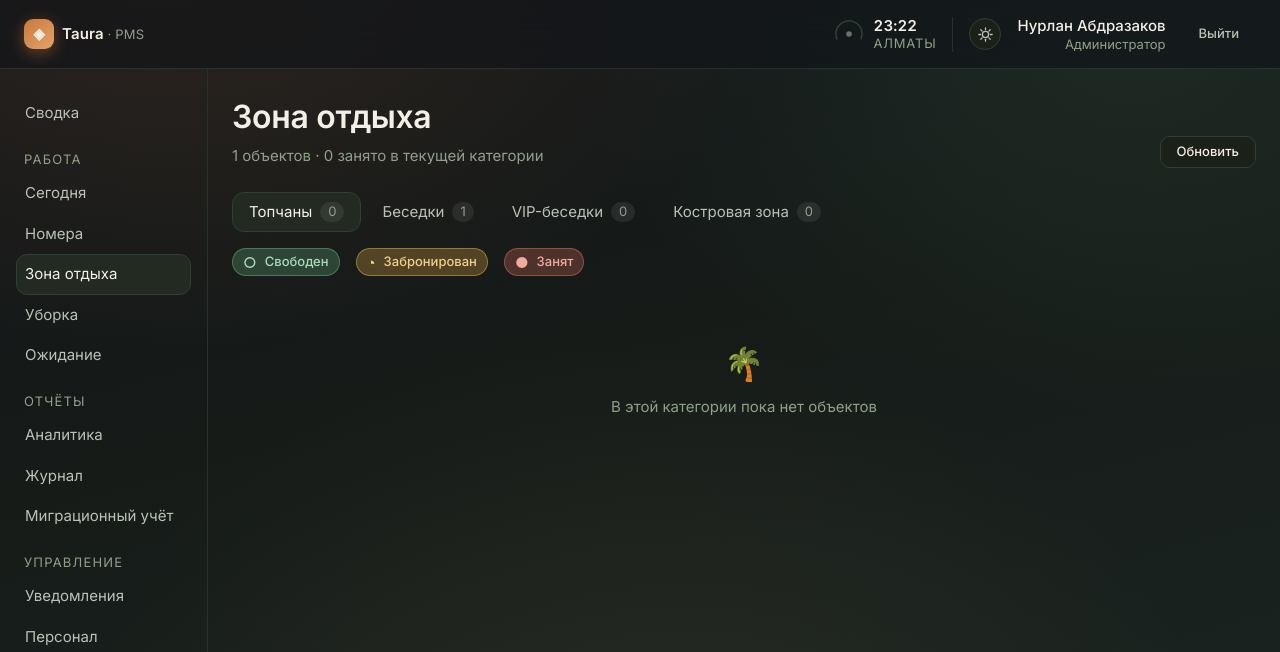
§1 clicking a card opens the detail view › opens a detail view for a restaurant unit too
The width and height of the screenshot is (1280, 652).
Click the button "Беседки 1": (428, 212) 366,192 -> 491,232
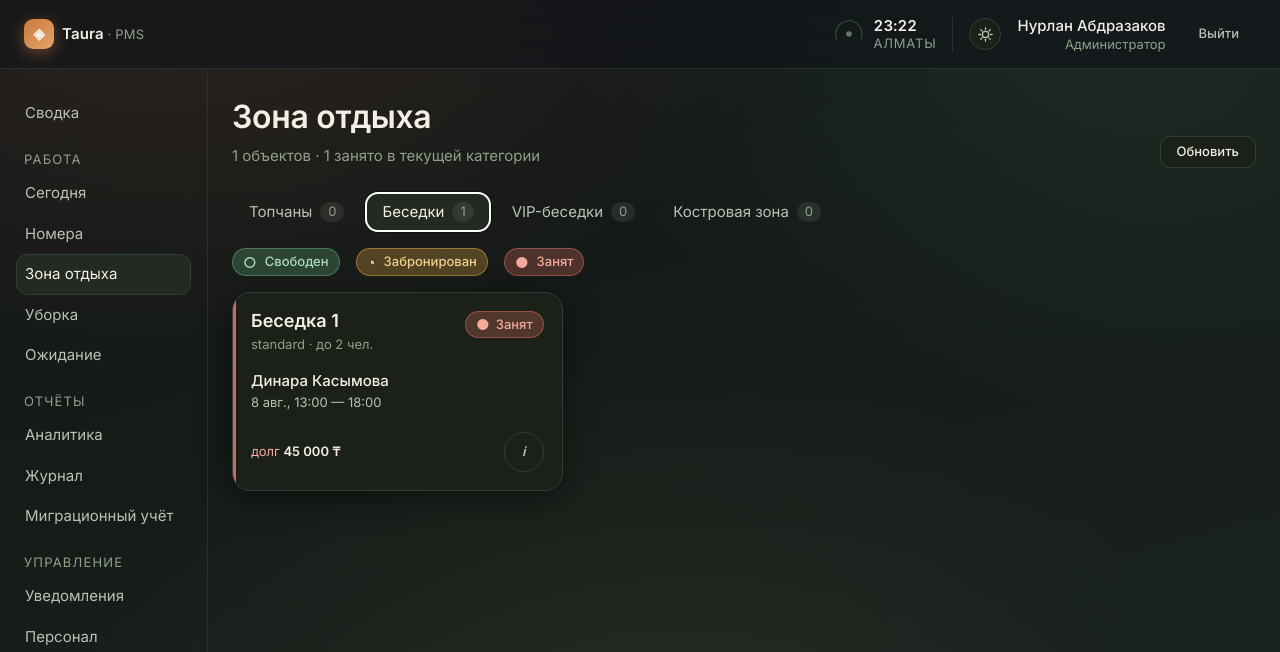
Click the button "Беседка 1": (295, 320) 251,311 -> 544,412
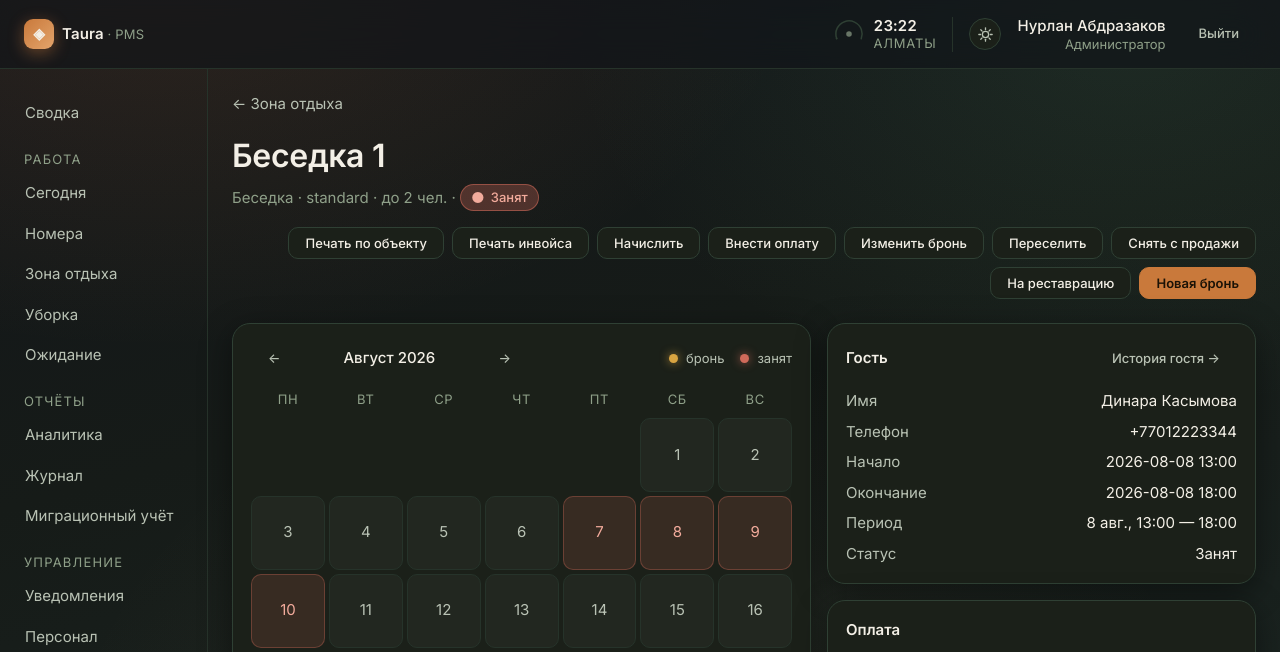
Expected: the text "Динара Касымова" is shown, 1101,390 -> 1237,413
Expected: the heading "Беседка 1" is shown, 232,136 -> 385,175
